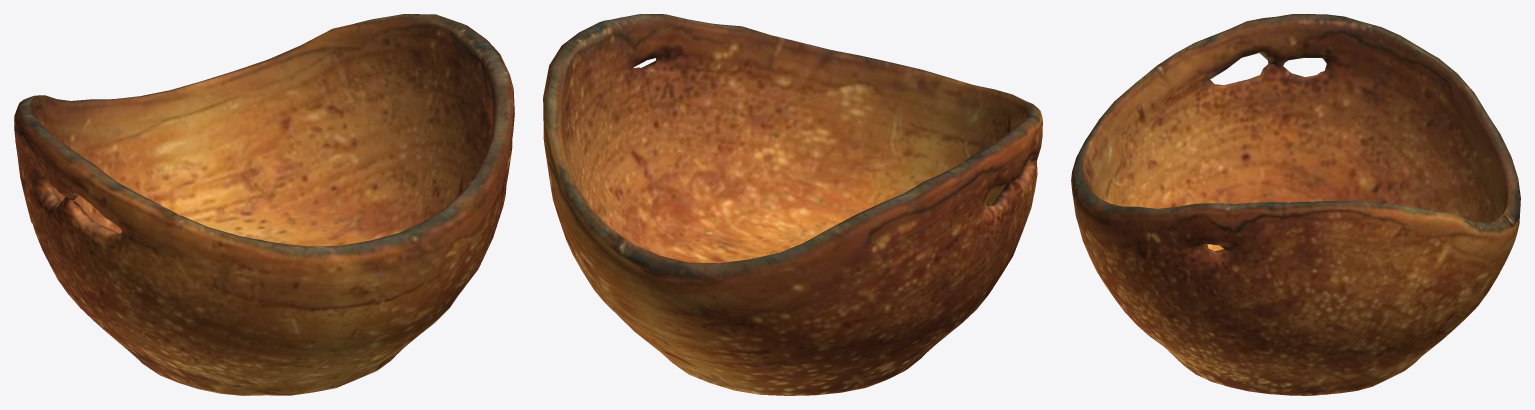
File: wooden_bowl_02.14a346e8.glb
3 renders of one model, left to right at view 1: azimuth 30°, elevation 25°; view 2: azimuth 150°, elevation 25°; view 3: azimuth 270°, elevation 25°, orthographic. The views are drawn at different scales.
Parts seen in each view (by area): view 1: wooden_bowl_02; view 2: wooden_bowl_02; view 3: wooden_bowl_02.
Boxes of the visible parts, x1,y1,x2,y2 form: wooden_bowl_02: (14, 14, 514, 395); wooden_bowl_02: (543, 14, 1042, 395); wooden_bowl_02: (1071, 14, 1520, 395).
Bounding box in the file's own units: 0.7557 × 0.4227 × 0.72.
Materials: 1 (1 with a texture image).
